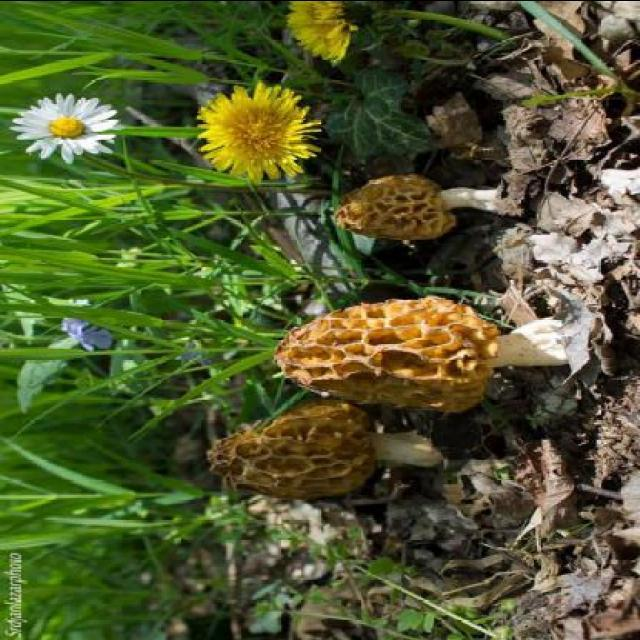Mushroom: (273, 296, 567, 414), (204, 400, 436, 506), (324, 177, 521, 246)
